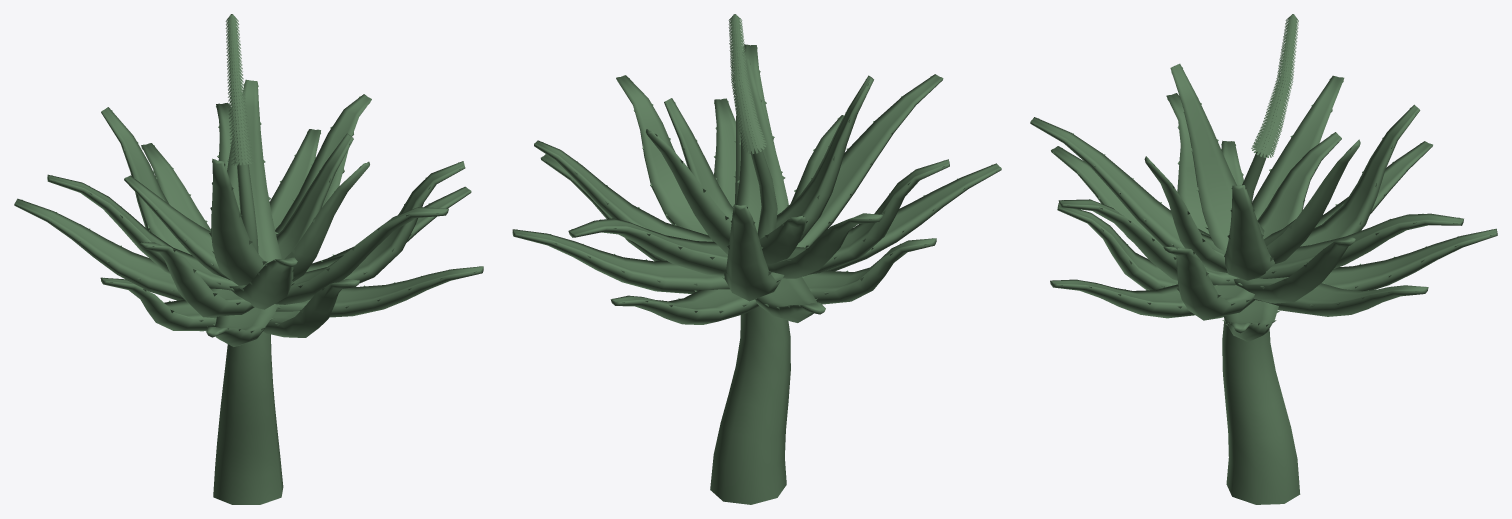
Rendered from BitterAloe_substance.fbx.
The picture shows the model from 3 angles, left to right: view 1: azimuth 30°, elevation 25°; view 2: azimuth 150°, elevation 25°; view 3: azimuth 270°, elevation 25°; orthographic projection. The views are drawn at different scales.
Parts seen in each view (by area): view 1: Flower.001; view 2: Flower.001; view 3: Flower.001.
Boxes of the visible parts, <box> form: Flower.001: <box>14,14,483,504</box>; Flower.001: <box>512,14,1001,504</box>; Flower.001: <box>1030,14,1497,504</box>.
Size of the model in its own units: 1.43 by 1.72 by 1.53.
